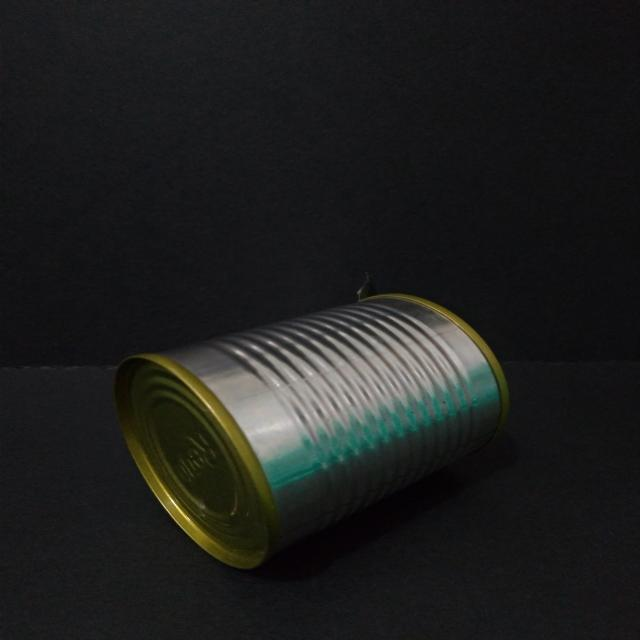metal-can: (113, 285, 517, 572)
